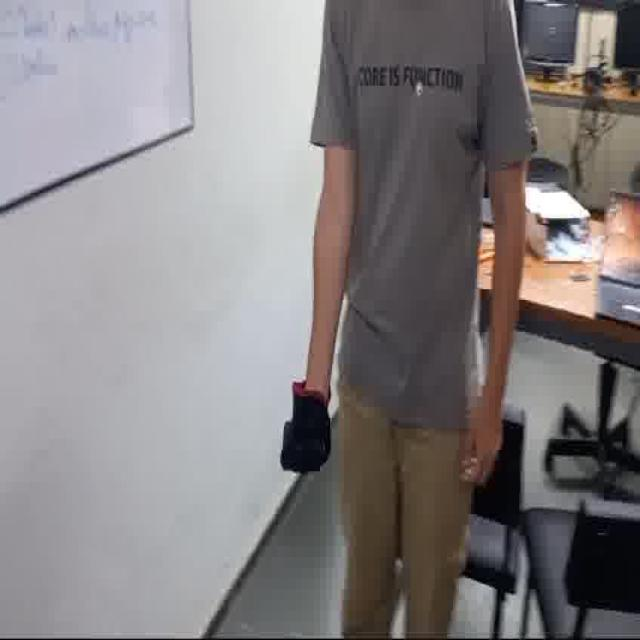Gloves: (277, 378, 341, 489)
